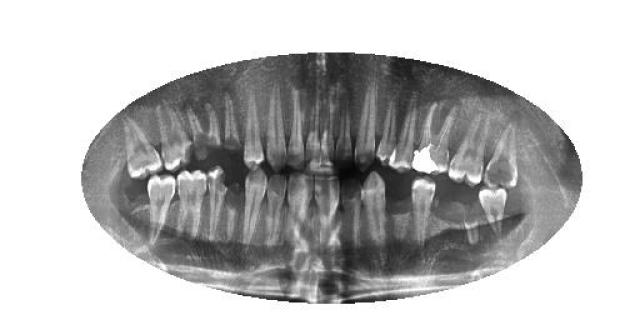Cavity: (157, 98, 195, 172), (485, 124, 520, 191), (188, 102, 224, 164), (221, 91, 244, 158), (226, 178, 246, 244), (462, 206, 482, 248), (392, 202, 412, 242)
Fillings: (410, 103, 459, 175)
